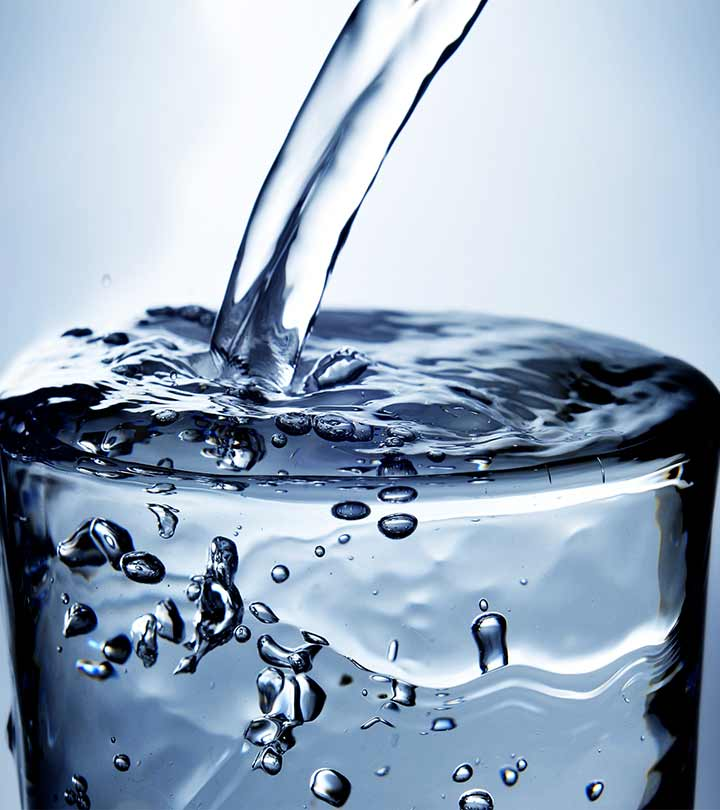glass of water: (1, 311, 720, 806)
